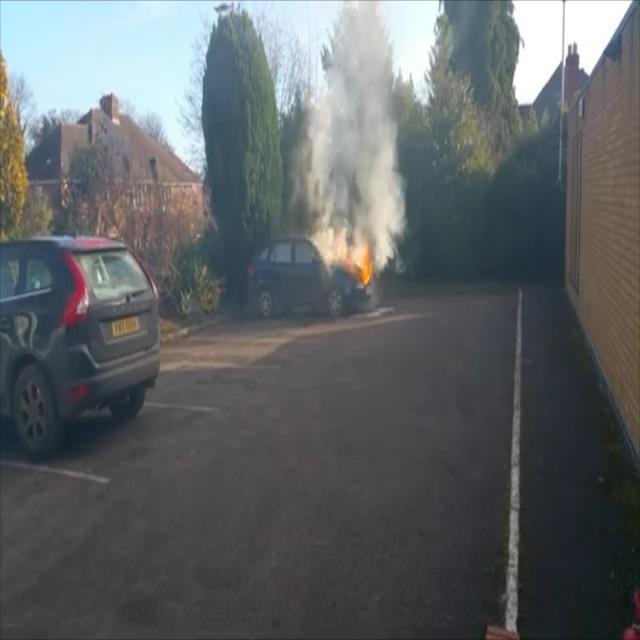fire: (328, 218, 385, 284)
